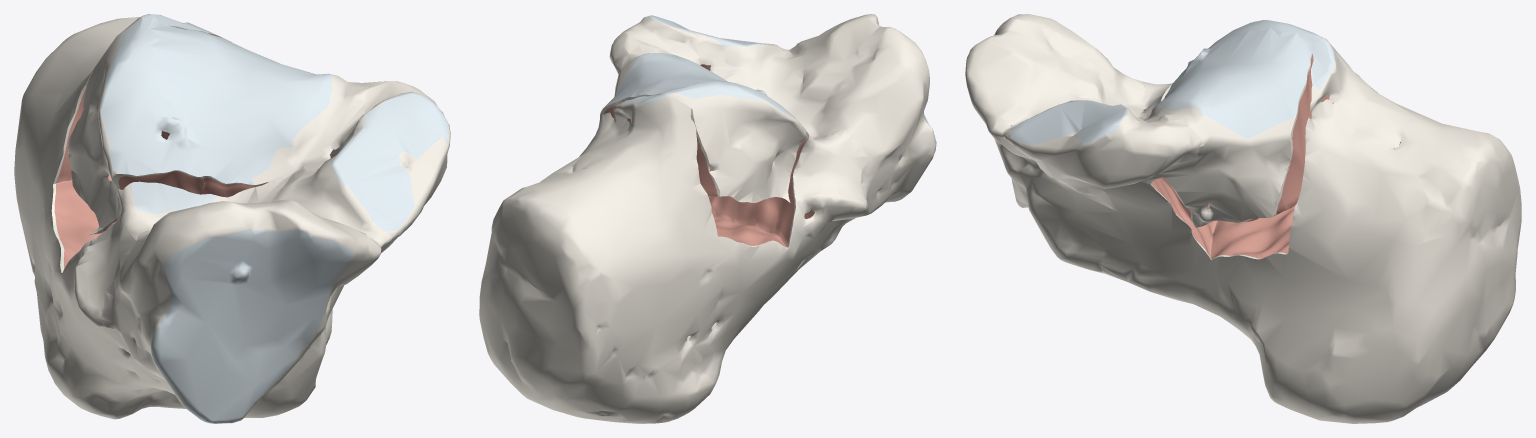
File: S-IIIAC_elderly.glb
The picture shows the model from 3 angles, left to right: view 1: azimuth 30°, elevation 25°; view 2: azimuth 150°, elevation 25°; view 3: azimuth 270°, elevation 25°; orthographic projection. The views are drawn at different scales.
Visible parts, largest first — view 1: calcaneus: sustentacular fragment, calcaneus: tuberosity, calcaneus: central joint fragment (depressed), calcaneus: lateral joint fragment; view 2: calcaneus: tuberosity, calcaneus: sustentacular fragment, calcaneus: lateral joint fragment, calcaneus: central joint fragment (depressed); view 3: calcaneus: tuberosity, calcaneus: sustentacular fragment, calcaneus: central joint fragment (depressed), calcaneus: lateral joint fragment.
Part boxes in pixels (left/top/right/bottom): calcaneus: sustentacular fragment: left=101, top=81, right=450, bottom=423; calcaneus: tuberosity: left=14, top=14, right=361, bottom=419; calcaneus: central joint fragment (depressed): left=149, top=19, right=363, bottom=197; calcaneus: lateral joint fragment: left=68, top=18, right=204, bottom=235; calcaneus: tuberosity: left=479, top=35, right=867, bottom=423; calcaneus: sustentacular fragment: left=609, top=14, right=936, bottom=244; calcaneus: lateral joint fragment: left=674, top=80, right=806, bottom=202; calcaneus: central joint fragment (depressed): left=600, top=38, right=758, bottom=169; calcaneus: tuberosity: left=1101, top=36, right=1521, bottom=423; calcaneus: sustentacular fragment: left=965, top=14, right=1202, bottom=272; calcaneus: central joint fragment (depressed): left=1135, top=31, right=1315, bottom=227; calcaneus: lateral joint fragment: left=1168, top=20, right=1319, bottom=91.
Size of the model in its own units: 0.0475 by 0.0513 by 0.0757.
